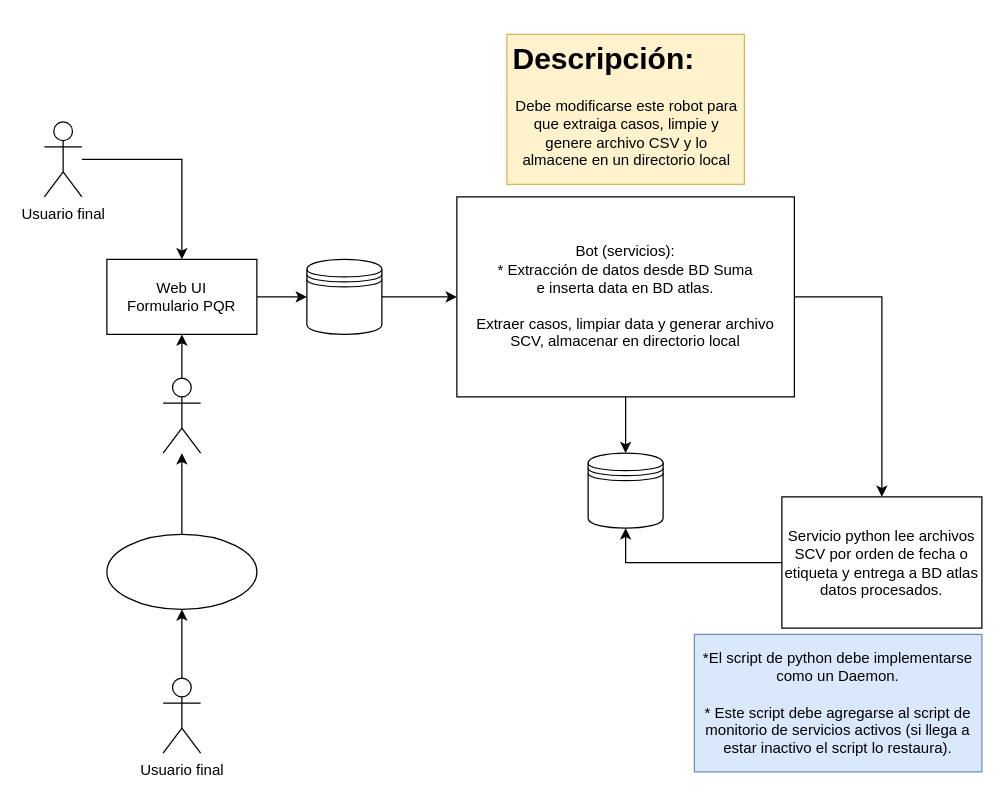
Image size: 1004x800. Some labels were removed from this diagram. The box of each missing label's shape, as (x1, y1, x2, y2) in pixels:
BD Suma: (306, 258, 382, 334)
BD, Atlas: (587, 452, 663, 528)
Contact center agent: (162, 377, 201, 453)
Linea de atención: (106, 533, 257, 609)
